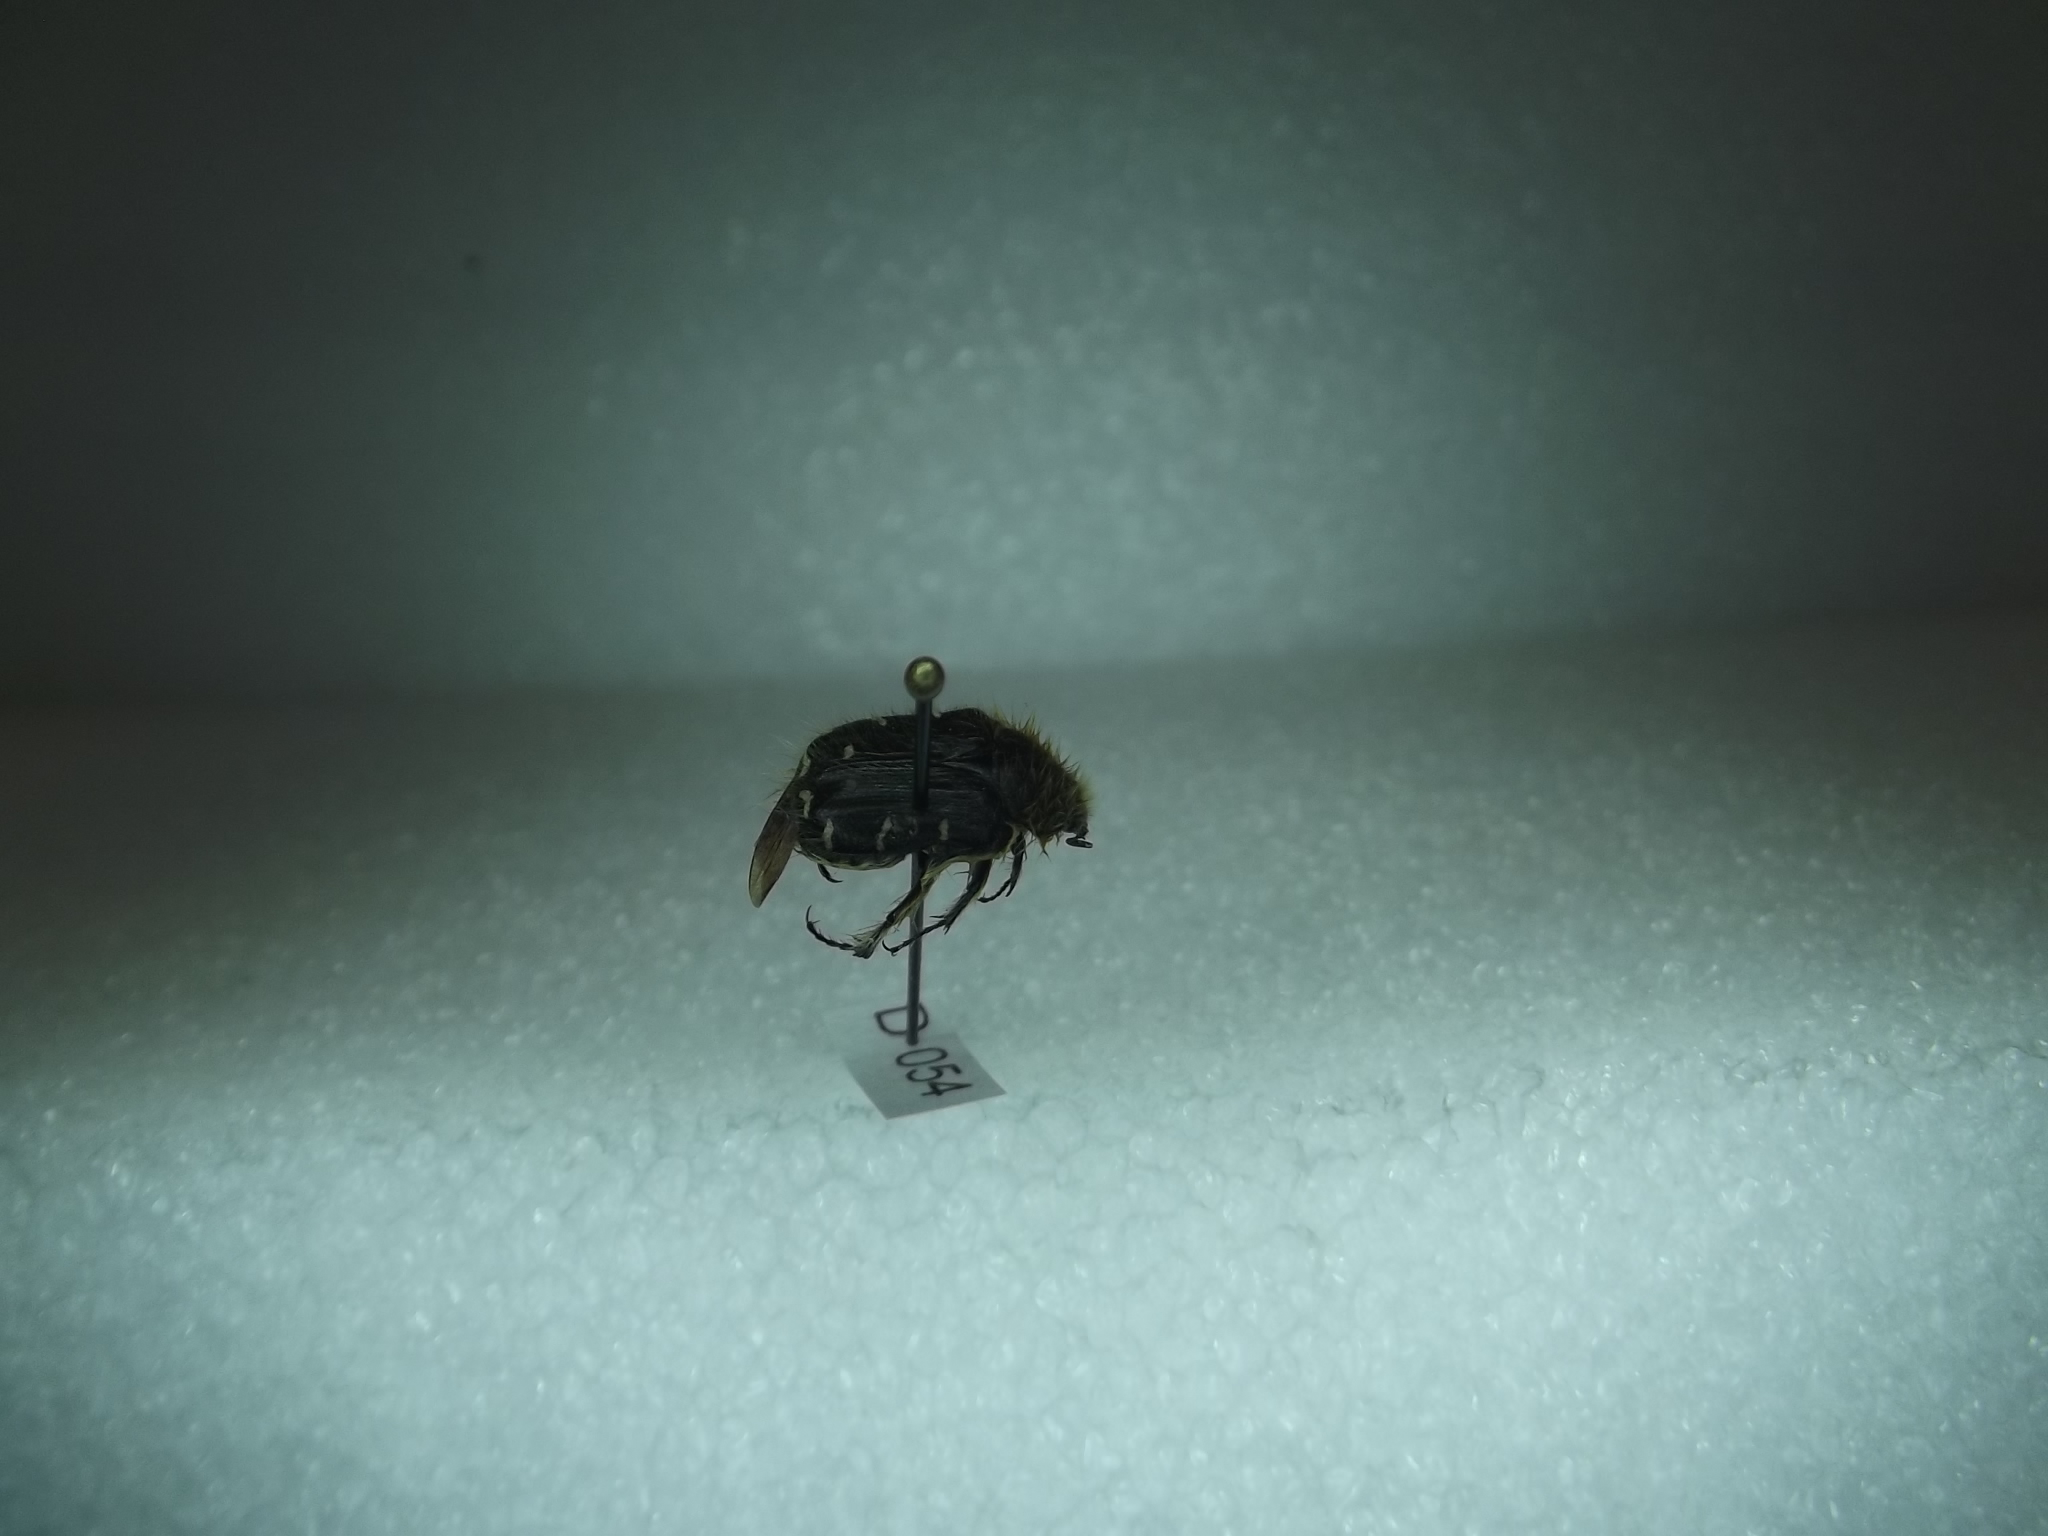Tropinota_hirta: (743, 684, 1122, 979)
